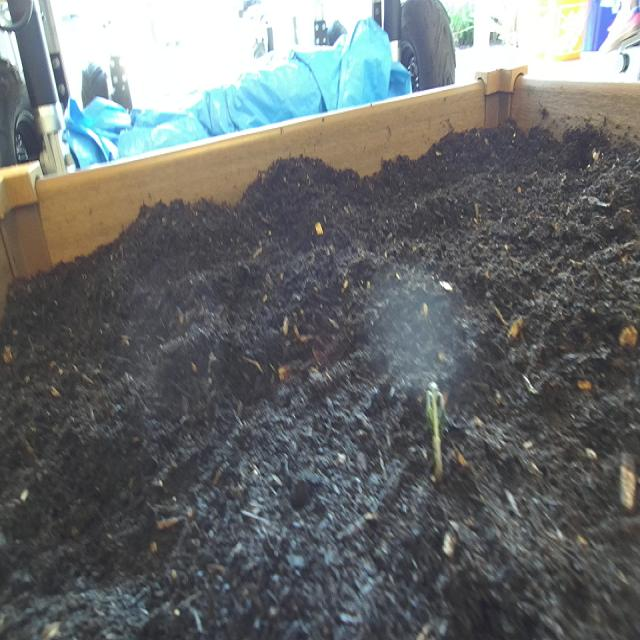Unhealthy: (420, 368, 463, 502)
